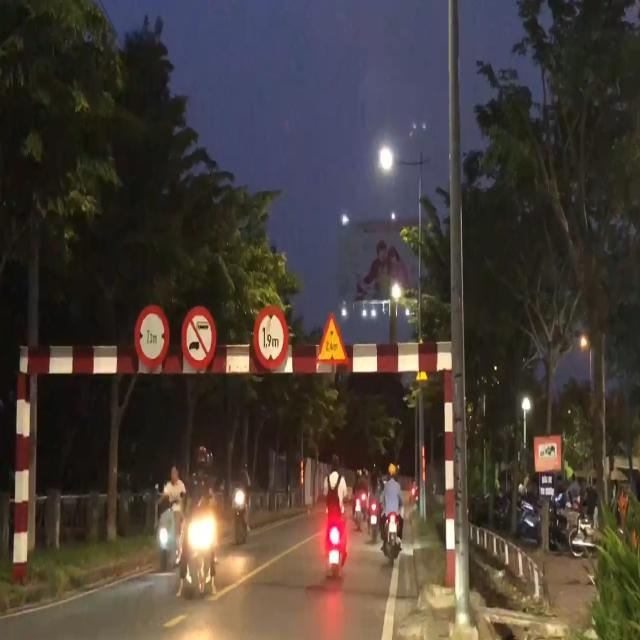Bien bao cam xe oto khach va xe oto tai: (178, 298, 220, 371)
Bien bao chieu cao tinh khong thuc te: (314, 308, 352, 370)
Bien bao han che chieu cao: (252, 301, 295, 378)
